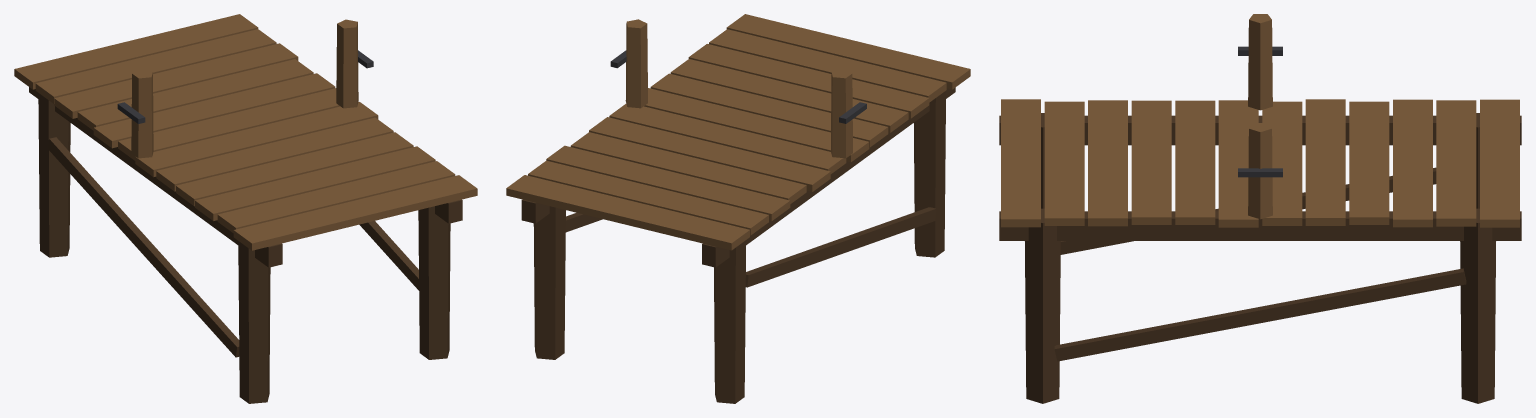
The model's file is Prop_YTM_Jetty_LOD1.glb.
3 views of the same model, side by side, from view 1: azimuth 30°, elevation 25°; view 2: azimuth 150°, elevation 25°; view 3: azimuth 270°, elevation 25° (orthographic). The views are drawn at different scales.
Parts seen in each view (by area): view 1: Prop_YTM_Jetty; view 2: Prop_YTM_Jetty; view 3: Prop_YTM_Jetty.
Part boxes in pixels (x1=…): Prop_YTM_Jetty: x1=14, y1=14, x2=477, y2=403; Prop_YTM_Jetty: x1=506, y1=14, x2=970, y2=403; Prop_YTM_Jetty: x1=999, y1=14, x2=1521, y2=403.
Size of the model in its own units: 1.7 by 1.75 by 3.
